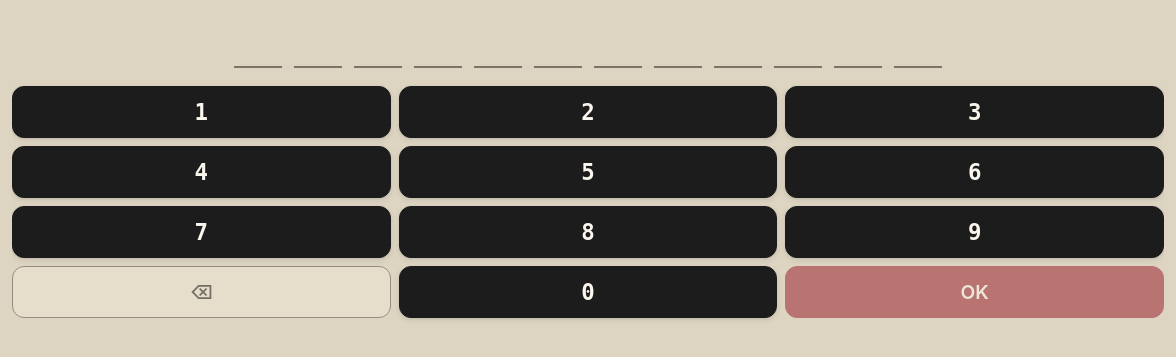
Die Zifferntafel unter schnellen Fingern › ⛔ sechs Druecke im selben Takt ergeben sechs Ziffern
Click the button "4" at [201, 172], box [12,146,391,198]
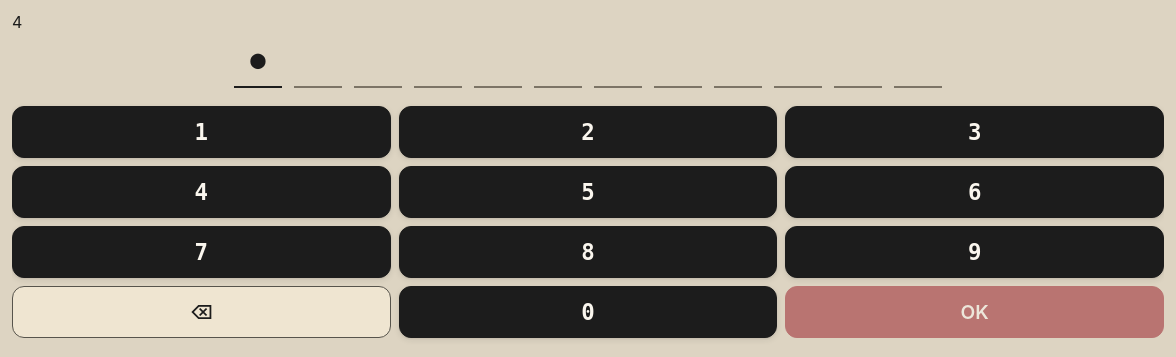
Click the button "8" at [588, 252], box [399,226,777,278]
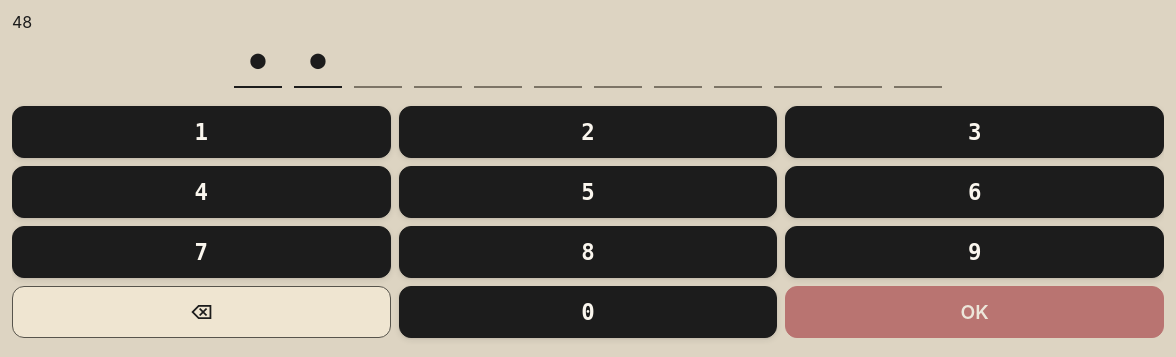
Click the button "1" at [201, 132], box [12,106,391,158]
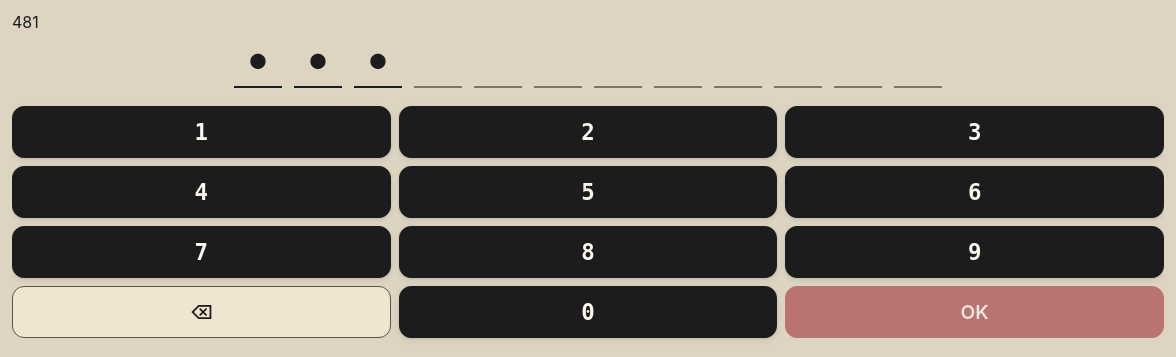
Click the button "5" at [588, 192], box [399,166,777,218]
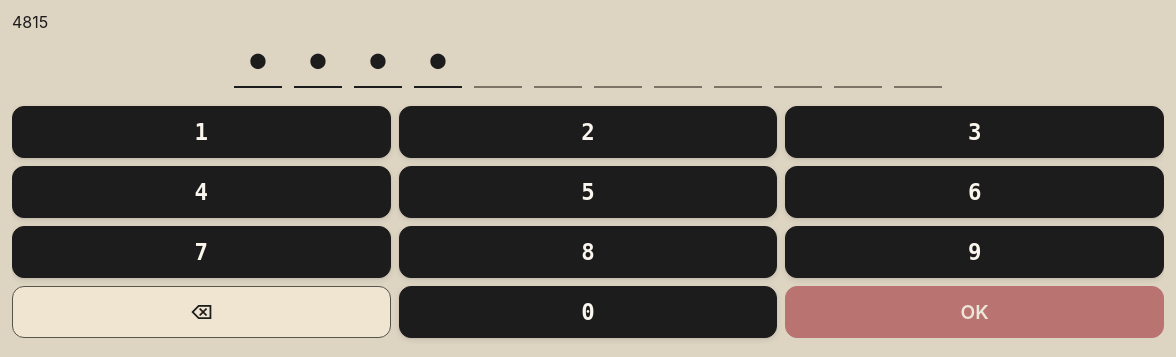
Click the button "9" at [975, 252], box [785,226,1164,278]
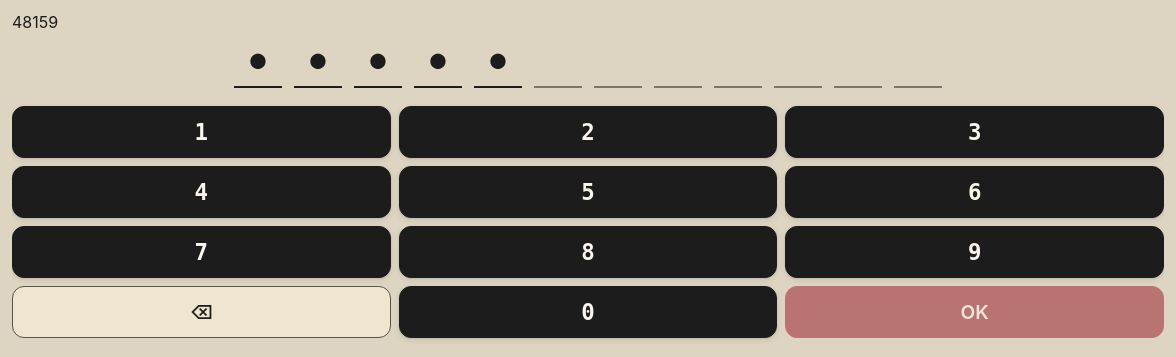
Click the button "6" at [975, 192], box [785,166,1164,218]
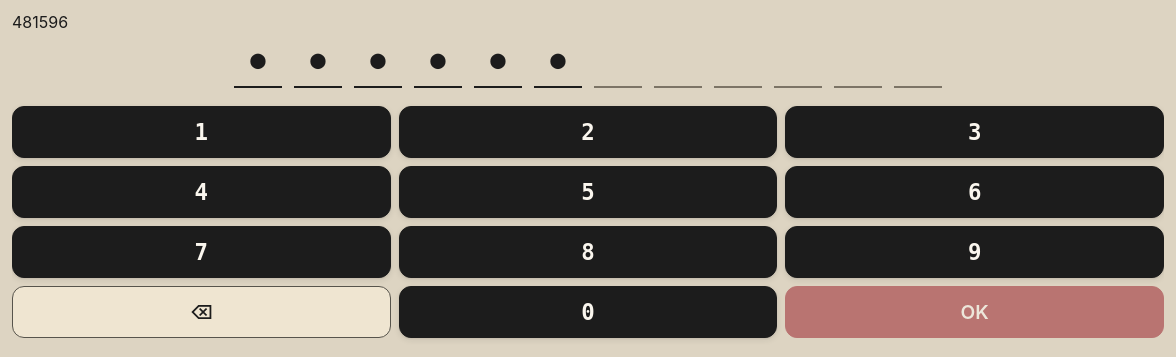
Check: the text with test id "wert" reads "481596", box [12,12,68,32]
